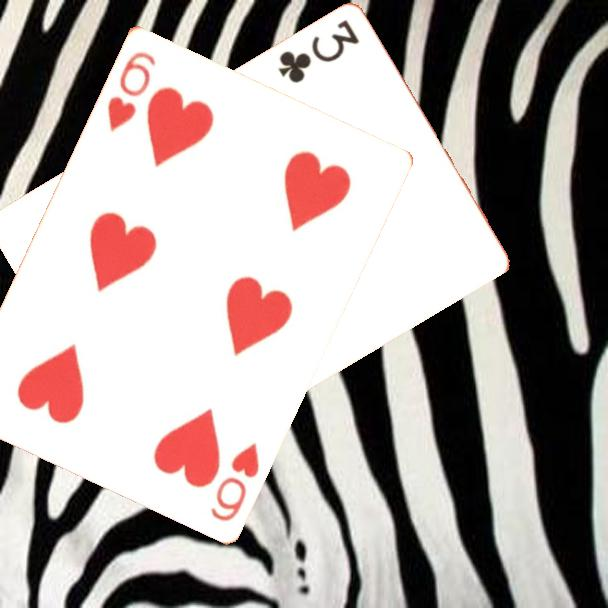c03: (274, 16, 362, 87)
h06: (103, 47, 159, 134), (206, 438, 262, 524)
